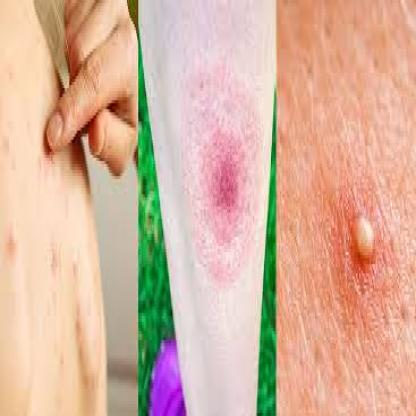Ringworm: (190, 109, 256, 248)
